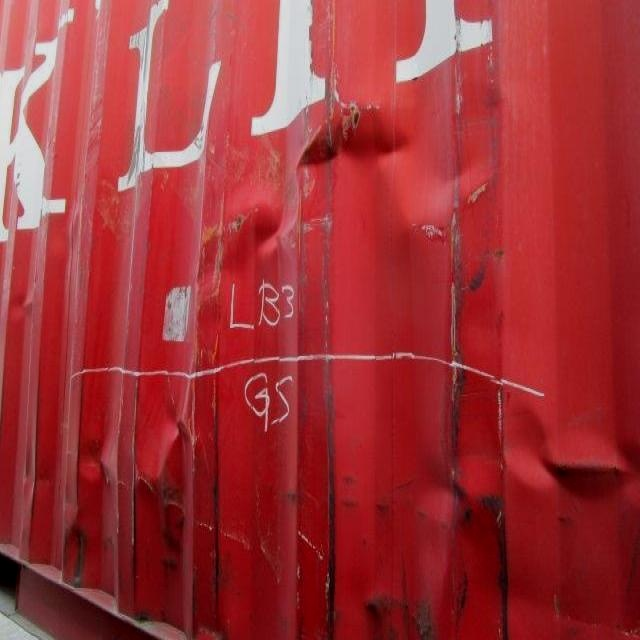Dent: (26, 335, 304, 609)
